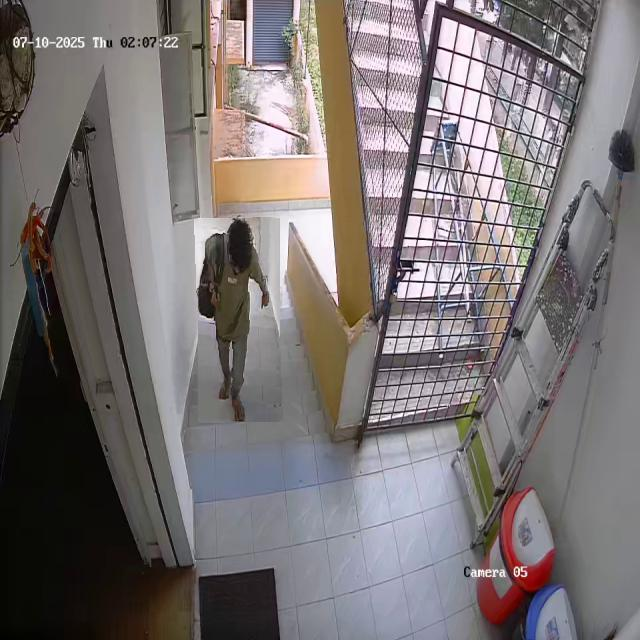person: (196, 218, 282, 422)
